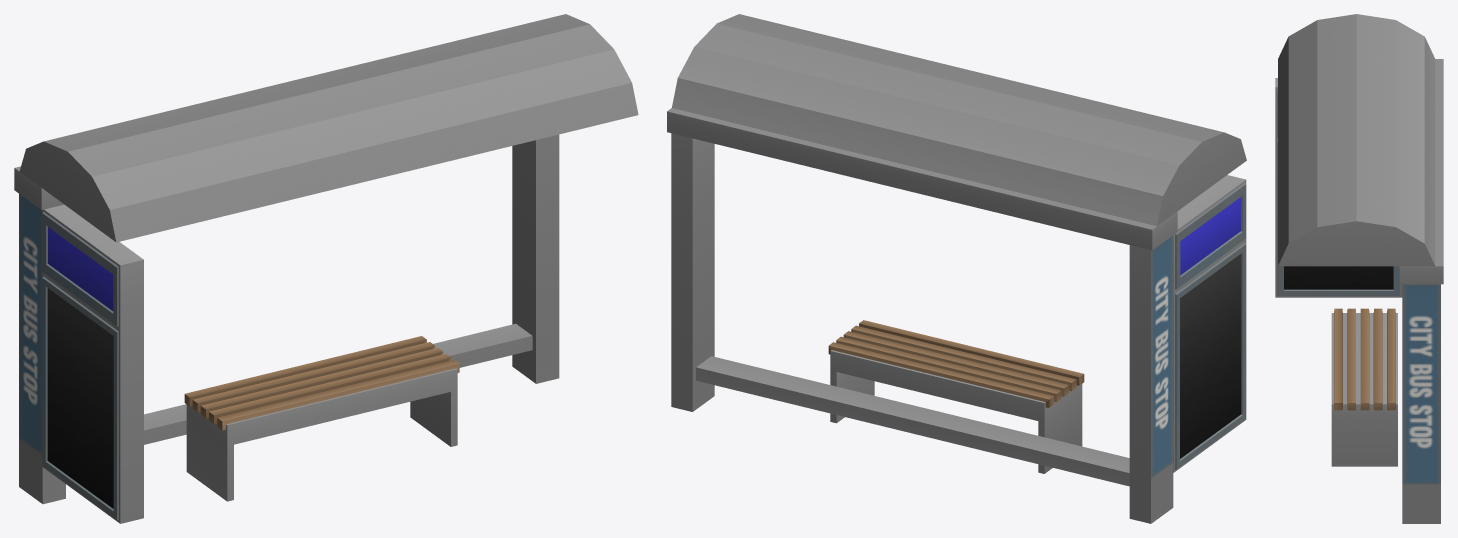
File: busstop.fbx
3 views of the same model, side by side, from view 1: azimuth 30°, elevation 25°; view 2: azimuth 150°, elevation 25°; view 3: azimuth 270°, elevation 25° (orthographic). The views are drawn at different scales.
Parts seen in each view (by area): view 1: busstopHead, busstopSide1, busstopbody, busstopSeat, busstopSeatTop, busstopSeatTop2, busstopSeatTop3, busstopSeatTop4, busstopSeatTop1; view 2: busstopHead, busstopbody, busstopSide1, busstopSeat, busstopSeatTop4, busstopSeatTop, busstopSeatTop3, busstopSeatTop2, busstopSeatTop1; view 3: busstopHead, busstopbody, busstopSeat, busstopSide1, busstopSeatTop2, busstopSeatTop3, busstopSeatTop4, busstopSeatTop, busstopSeatTop1.
Boxes of the visible parts, x1=… form: busstopHead: x1=19, y1=14, x2=638, y2=242; busstopSide1: x1=42, y1=204, x2=143, y2=523; busstopbody: x1=14, y1=134, x2=559, y2=504; busstopSeat: x1=186, y1=368, x2=457, y2=501; busstopSeatTop: x1=217, y1=360, x2=459, y2=430; busstopSeatTop2: x1=200, y1=348, x2=443, y2=418; busstopSeatTop3: x1=192, y1=342, x2=435, y2=412; busstopSeatTop4: x1=184, y1=336, x2=426, y2=406; busstopSeatTop1: x1=209, y1=354, x2=451, y2=424; busstopHead: x1=672, y1=14, x2=1246, y2=226; busstopbody: x1=667, y1=108, x2=1177, y2=523; busstopSide1: x1=1173, y1=175, x2=1246, y2=472; busstopSeat: x1=830, y1=350, x2=1082, y2=473; busstopSeatTop4: x1=828, y1=342, x2=1053, y2=407; busstopSeatTop: x1=859, y1=320, x2=1084, y2=385; busstopSeatTop3: x1=836, y1=336, x2=1061, y2=402; busstopSeatTop2: x1=843, y1=331, x2=1068, y2=396; busstopSeatTop1: x1=851, y1=325, x2=1076, y2=391; busstopHead: x1=1278, y1=14, x2=1435, y2=266; busstopbody: x1=1399, y1=59, x2=1443, y2=523; busstopSeat: x1=1331, y1=313, x2=1397, y2=466; busstopSide1: x1=1275, y1=78, x2=1402, y2=297; busstopSeatTop2: x1=1360, y1=308, x2=1369, y2=410; busstopSeatTop3: x1=1373, y1=308, x2=1382, y2=410; busstopSeatTop4: x1=1387, y1=308, x2=1395, y2=410; busstopSeatTop: x1=1334, y1=308, x2=1342, y2=410; busstopSeatTop1: x1=1347, y1=308, x2=1355, y2=410.
Bounding box in the file's own units: 444 × 304 × 153.
2 materials, 2 textured.
